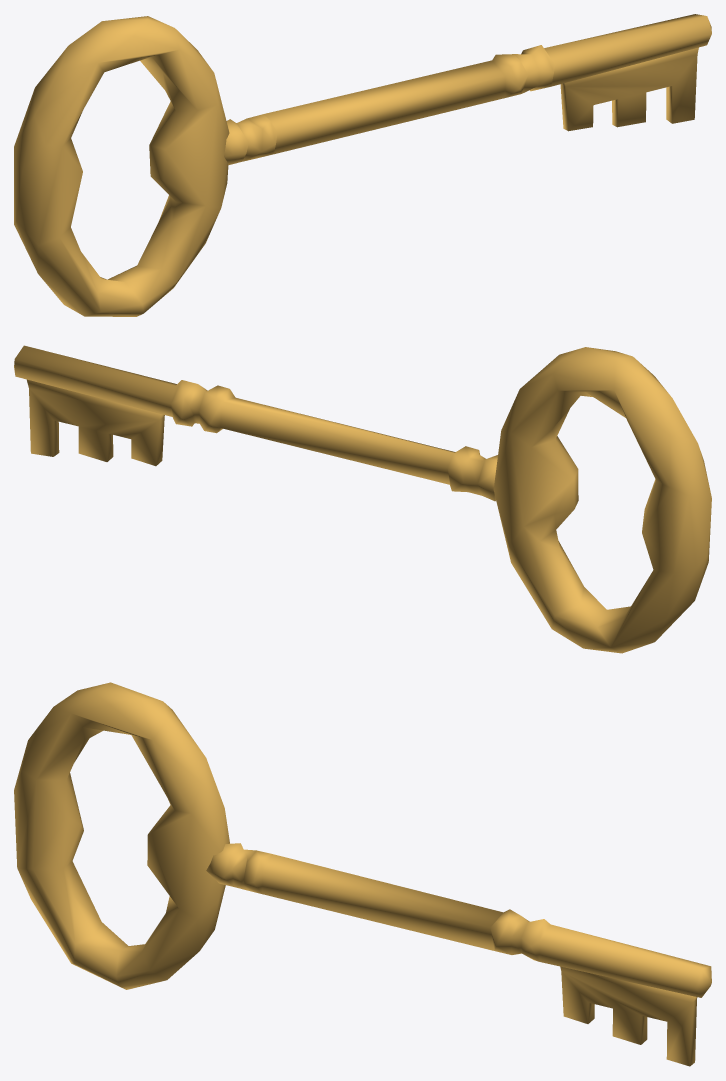
File: KeyBlend.fbx
The picture shows the model from 3 angles, top to bottom: view 1: azimuth 30°, elevation 25°; view 2: azimuth 150°, elevation 25°; view 3: azimuth 330°, elevation 25°; orthographic projection.
Visible parts, largest first — view 1: Torus.001; view 2: Torus.001; view 3: Torus.001.
Part boxes in pixels (bbox=[...]): Torus.001: bbox=[14, 14, 711, 316]; Torus.001: bbox=[14, 345, 711, 653]; Torus.001: bbox=[14, 682, 711, 1066].
Bounding box in the file's own units: 147 × 59.98 × 10.29.
